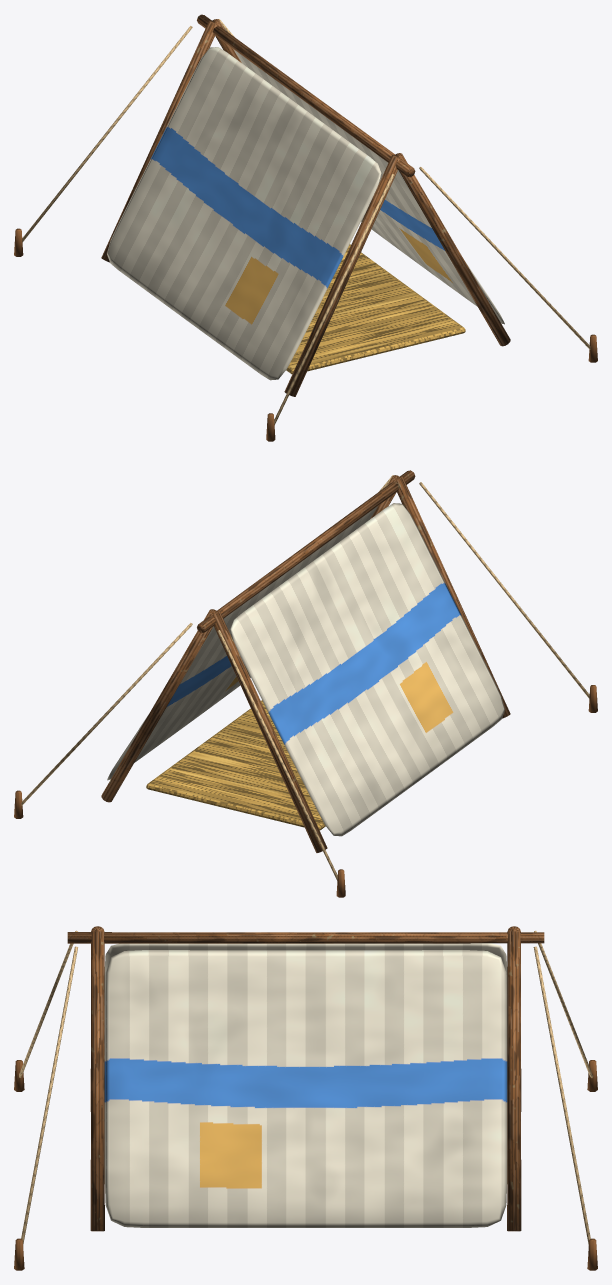
The model's file is tent.glb.
3 renders of one model, top to bottom at view 1: azimuth 30°, elevation 25°; view 2: azimuth 150°, elevation 25°; view 3: azimuth 270°, elevation 25°, orthographic. The views are drawn at different scales.
Parts seen in each view (by area): view 1: Tent; view 2: Tent; view 3: Tent.
Part boxes in pixels (x1,y1,x2,y2): Tent: (14, 14, 597, 441); Tent: (14, 470, 597, 897); Tent: (14, 926, 597, 1270).
Size of the model in its own units: 2.45 by 1.57 by 3.31.
Materials: 1 (1 with a texture image).
